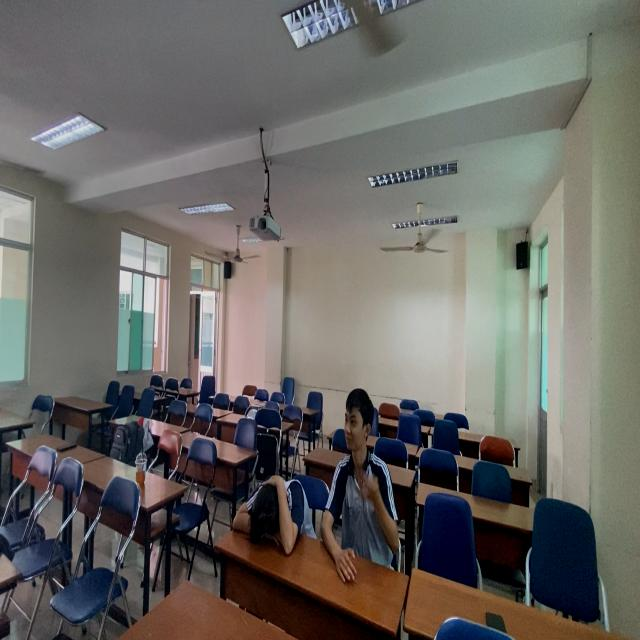sleep: (228, 469, 318, 562)
